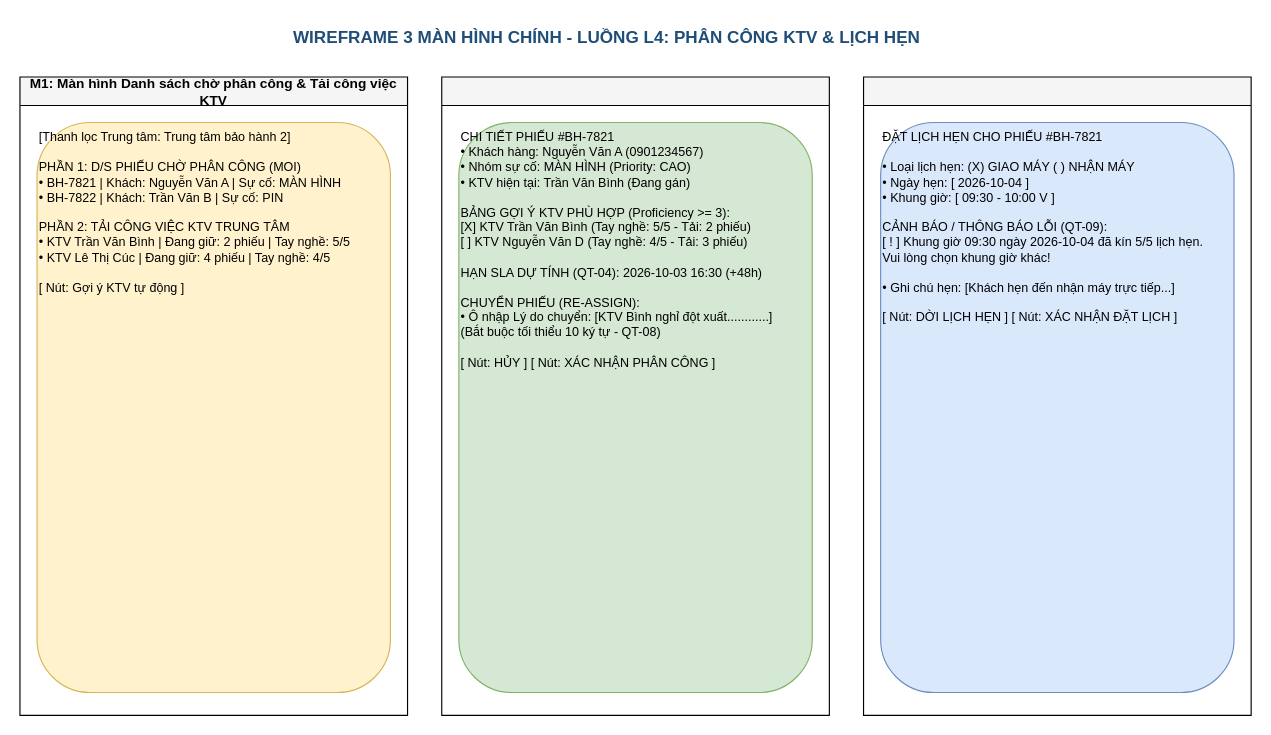
The diagram is 1271 pixels wide and 735 high, and some of its shapes have lost their labels. The shapes that lost their labels are listed below. From the top down, each one's box as (x1, y1, x2, y2) in pixels, then its label:
(441, 76, 829, 715): M2: Màn hình Phân công & Chuyển gán phiếu (Re-assign)
(862, 76, 1251, 715): M3: Màn hình Đặt & Quản lý Lịch hẹn giao-nhận máy
